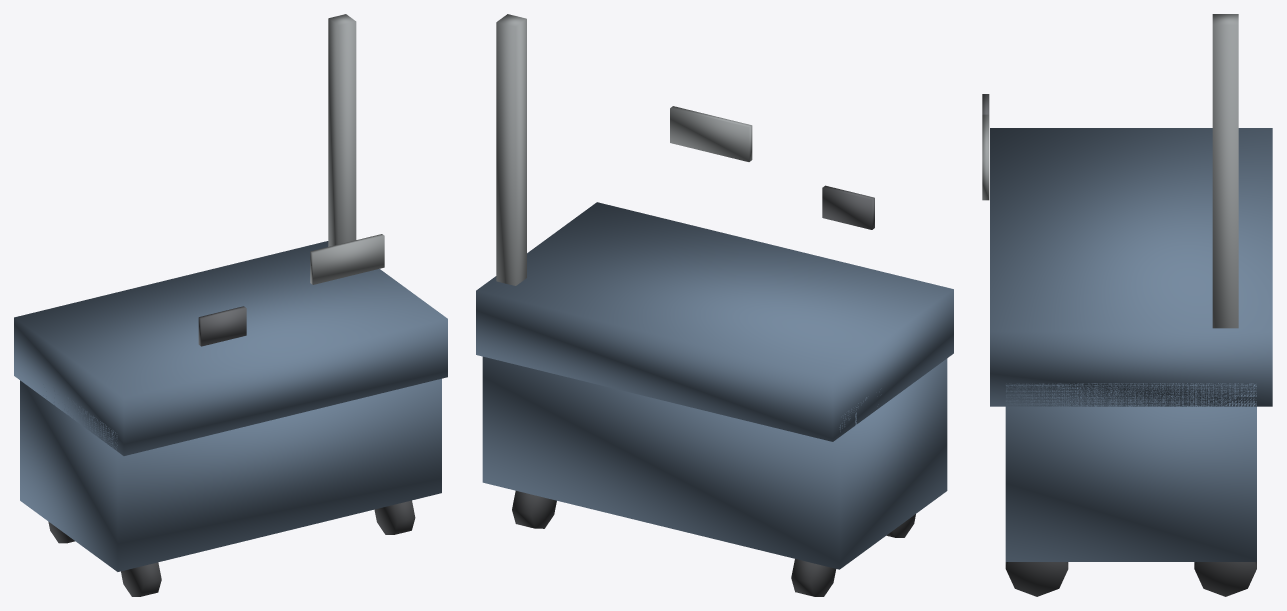
The model's file is cleaning_cart__weathered.glb.
The picture shows the model from 3 angles, left to right: view 1: azimuth 30°, elevation 25°; view 2: azimuth 150°, elevation 25°; view 3: azimuth 270°, elevation 25°; orthographic projection. The views are drawn at different scales.
Visible parts, largest first — view 1: world; view 2: world; view 3: world.
Part boxes in pixels (box(x1,y1,x2,y2)): world: box(14, 14, 447, 596); world: box(476, 14, 953, 596); world: box(982, 14, 1272, 596).
Size of the model in its own units: 0.92 by 1.23 by 0.5548.
